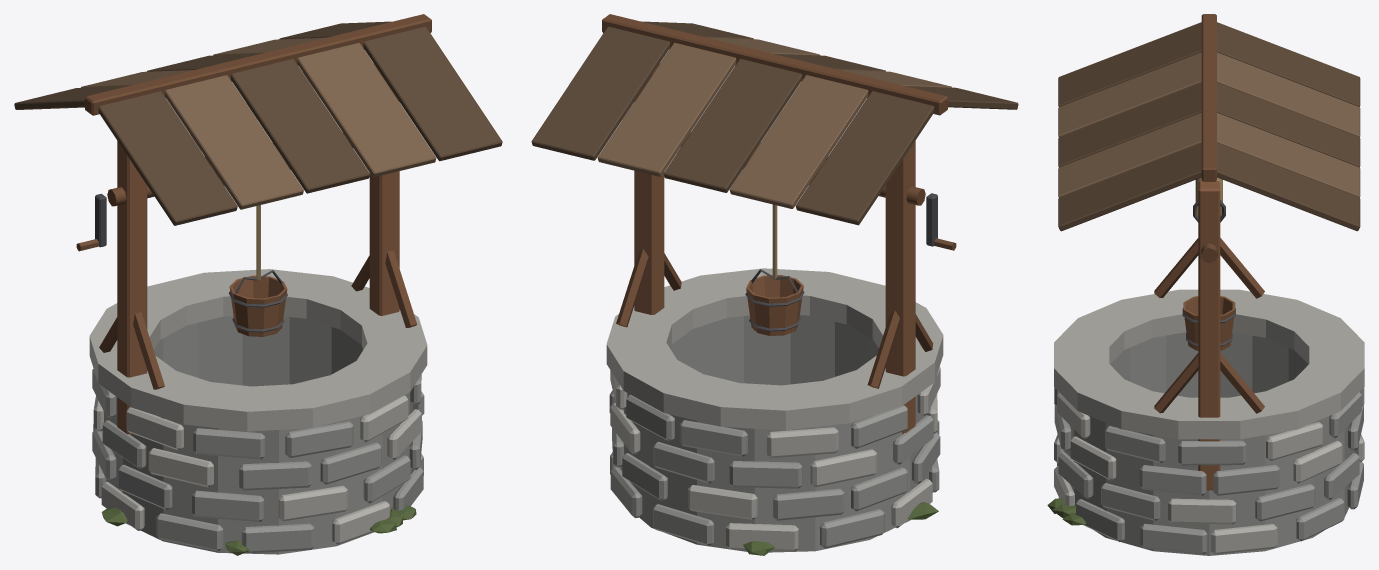
Rendered from well.glb.
3 views of the same model, side by side, from view 1: azimuth 30°, elevation 25°; view 2: azimuth 150°, elevation 25°; view 3: azimuth 270°, elevation 25° (orthographic). The views are drawn at different scales.
Visible parts, largest first — view 1: well; view 2: well; view 3: well.
Part boxes in pixels (x1=…): well: x1=14, y1=14, x2=502, y2=555; well: x1=531, y1=14, x2=1018, y2=555; well: x1=1047, y1=14, x2=1364, y2=555.
Size of the model in its own units: 2.22 by 2.62 by 1.87.
